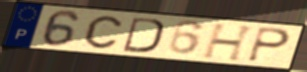6: (166, 18, 206, 59), (41, 9, 81, 48)
C: (83, 14, 124, 50)
D: (121, 15, 166, 55)
H: (200, 22, 257, 63)
P: (245, 26, 293, 64)
